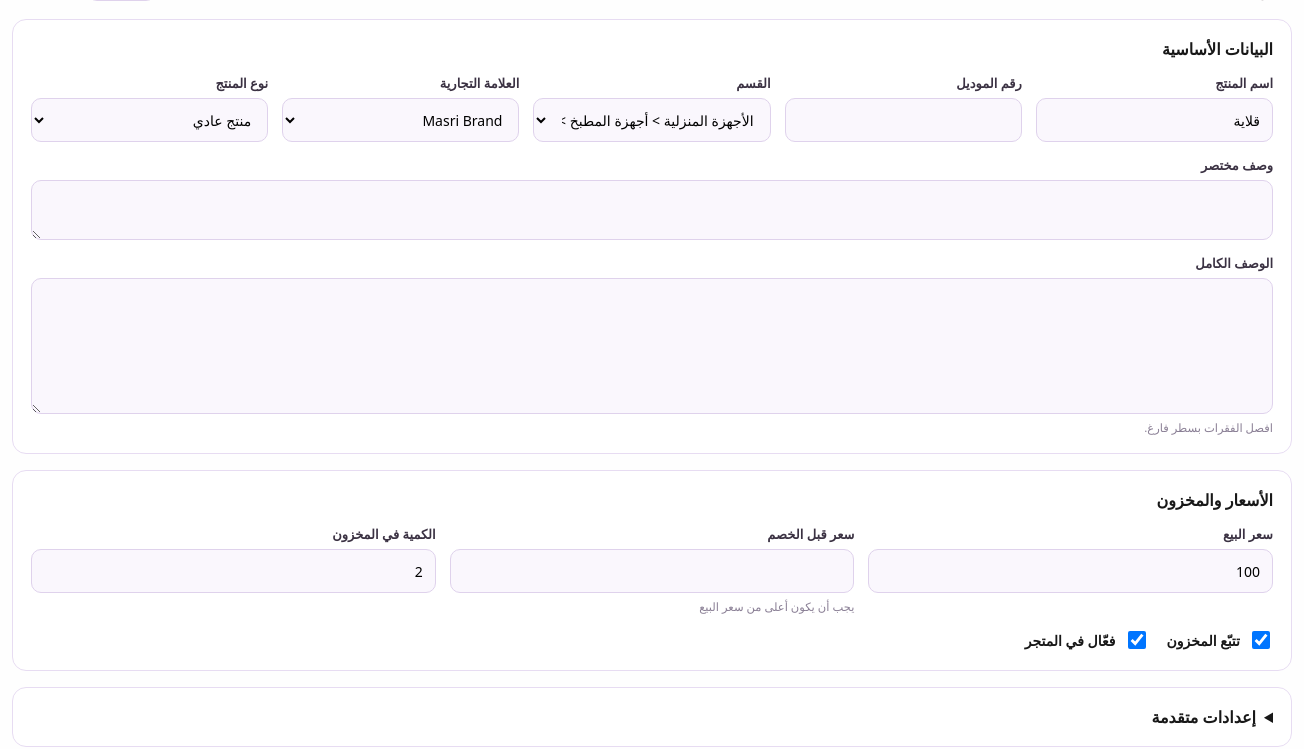
Scenario: product editor primary UX › shows package controls only for package products
Expected: the text "محتويات البكج" is not shown
Select "بكج" in the dropdown labelled "نوع المنتج": (150, 120) left=31, top=98, right=268, bottom=142
(page scrolled)
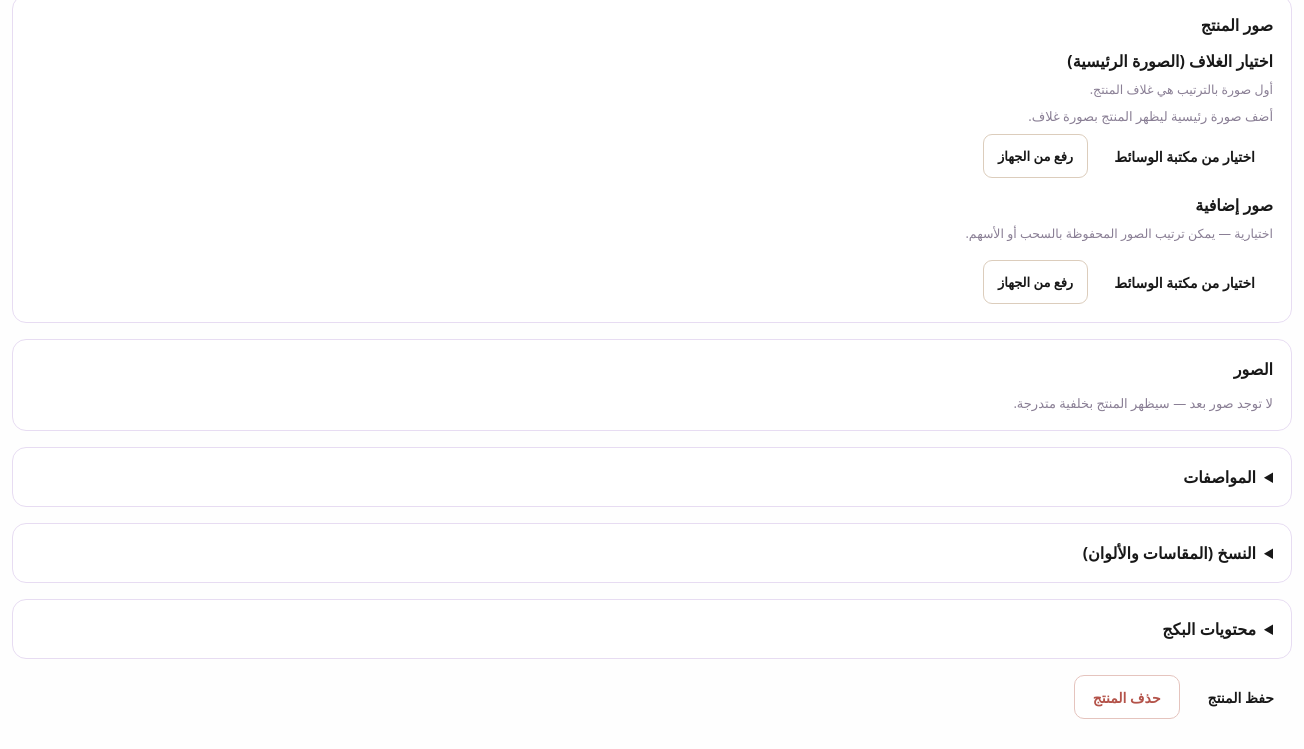
Result: the heading "محتويات البكج" is shown at left=1162, top=618, right=1256, bottom=640
